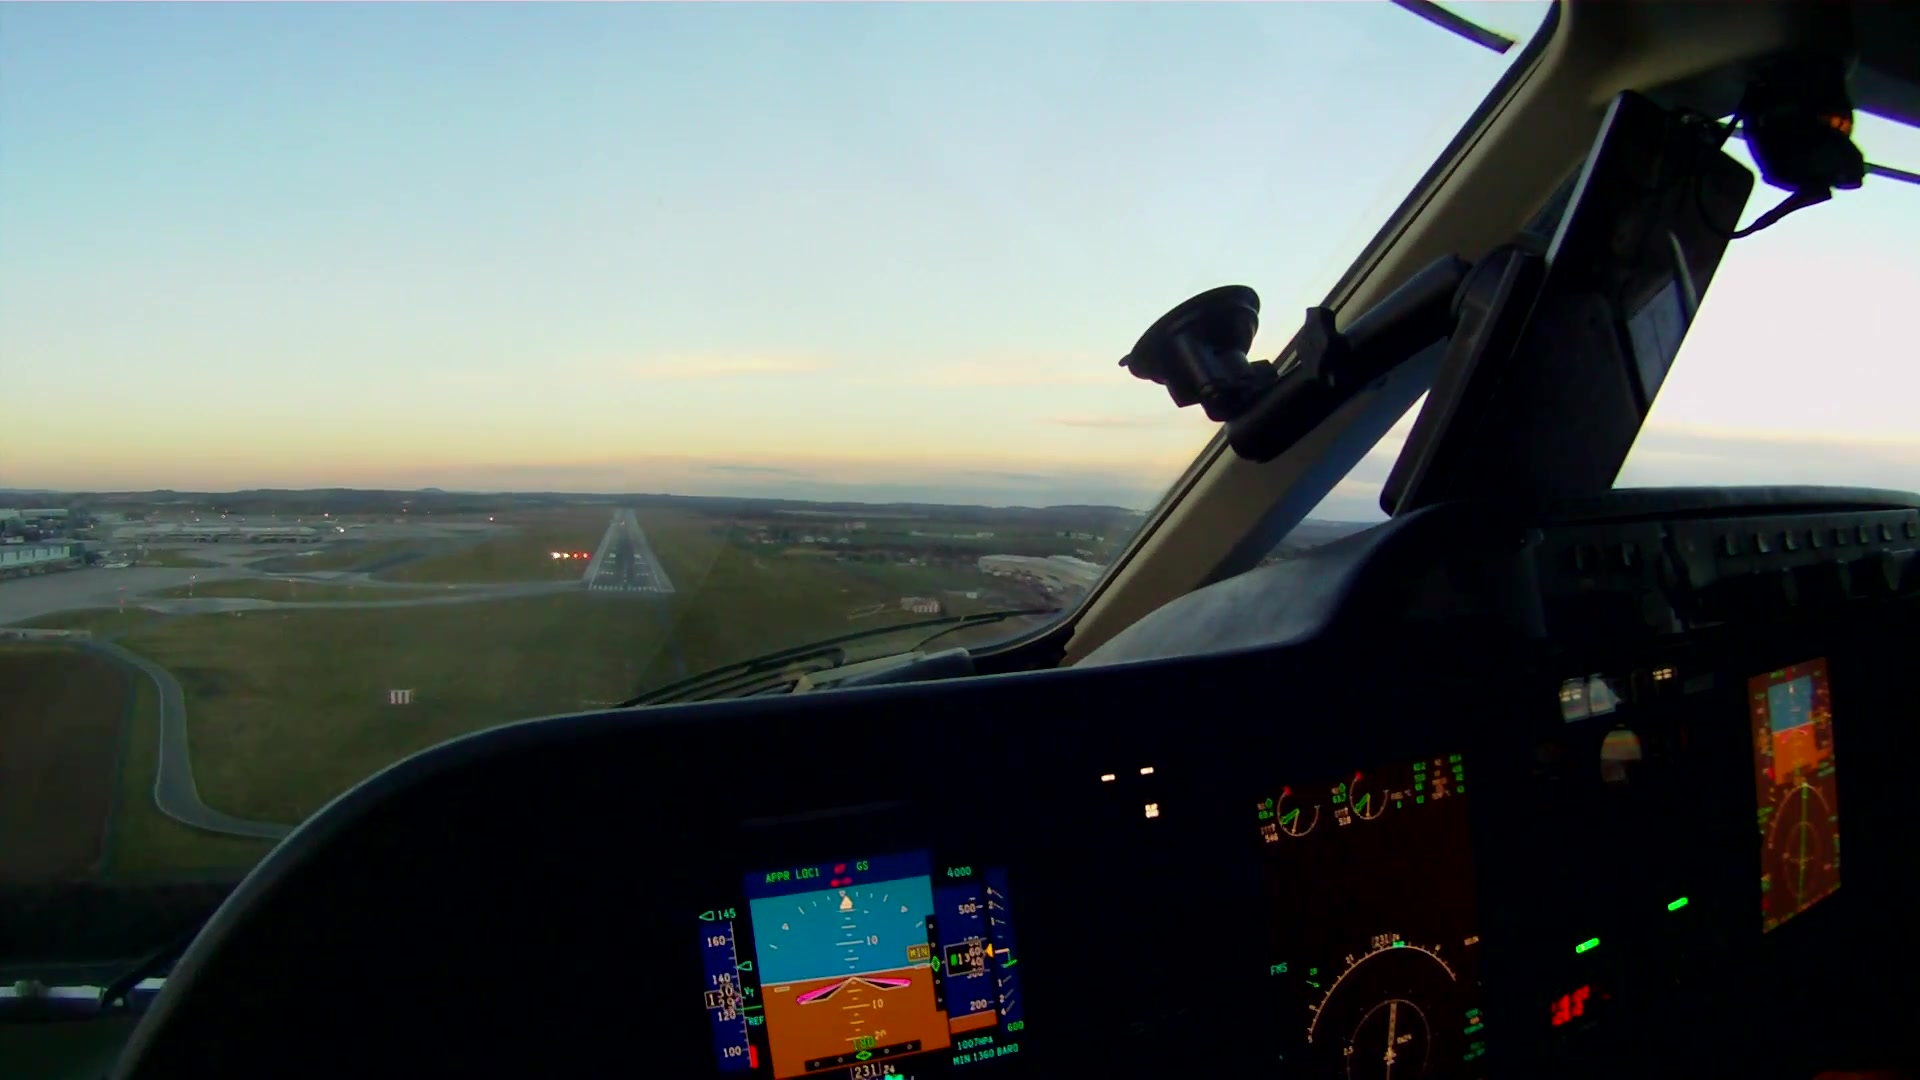entrance: (589, 582, 662, 593)
runway: (578, 505, 676, 595)
